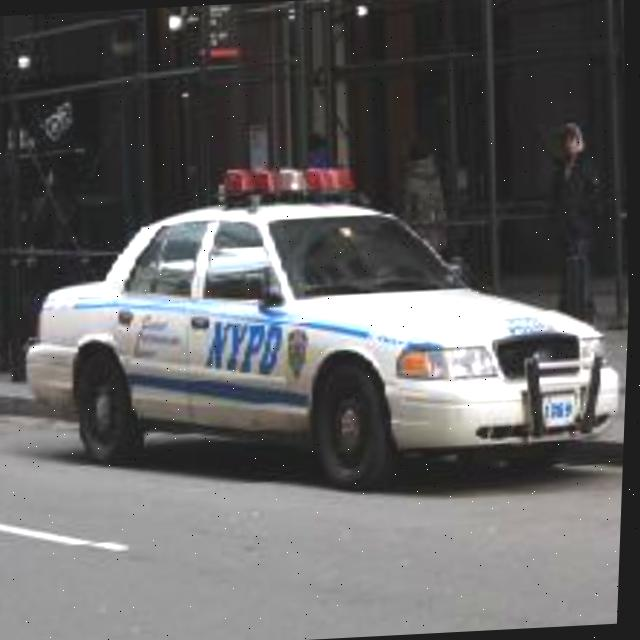emergency: (36, 140, 635, 484)
